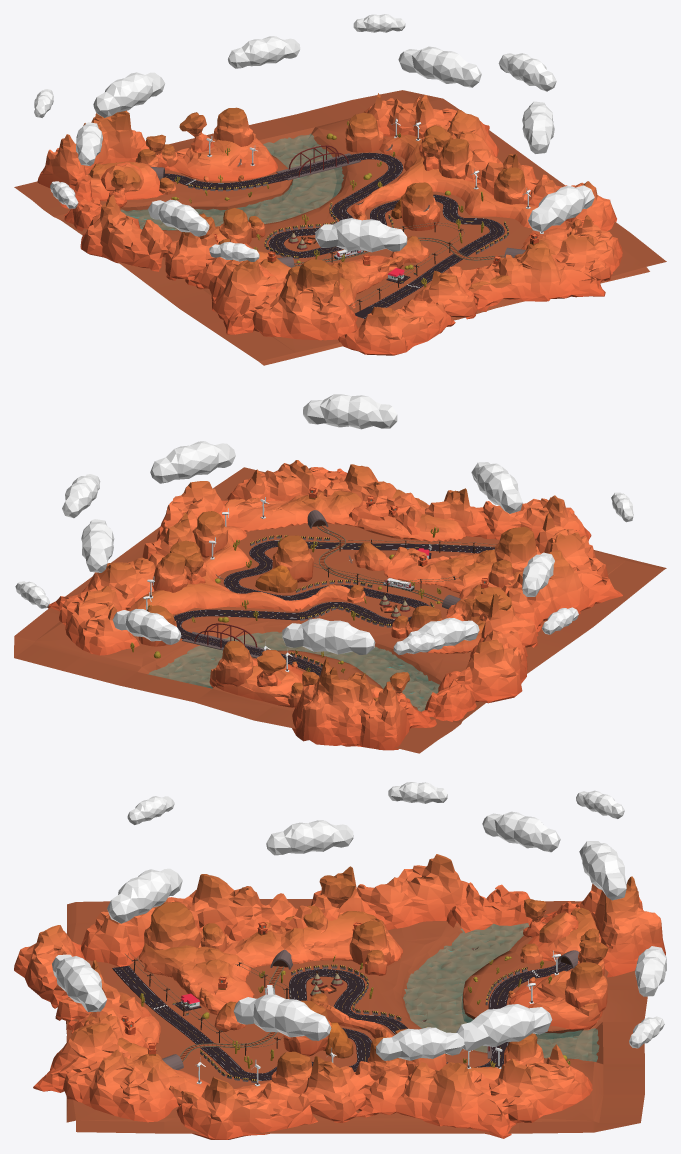
The model's file is track.gltf.
3 views of the same model, one above another, from view 1: azimuth 30°, elevation 25°; view 2: azimuth 150°, elevation 25°; view 3: azimuth 270°, elevation 25° (orthographic). The views are drawn at different scales.
Parts seen in each view (by area): view 1: track_collideable; view 2: track_collideable; view 3: track_collideable.
Part boxes in pixels (box(x1,y1,x2,y2)): track_collideable: box(14, 14, 666, 365); track_collideable: box(14, 394, 666, 753); track_collideable: box(14, 782, 666, 1139).
Size of the model in its own units: 24.47 by 5.3 by 24.65.
Materials: 11 (2 with a texture image).
